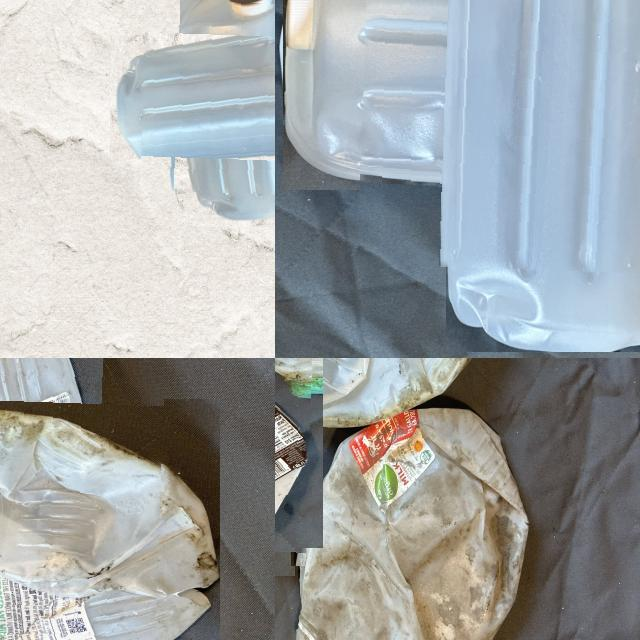milk-jug: (360, 0, 640, 274), (290, 404, 533, 640), (0, 358, 161, 640), (141, 0, 275, 194), (275, 358, 519, 434)
